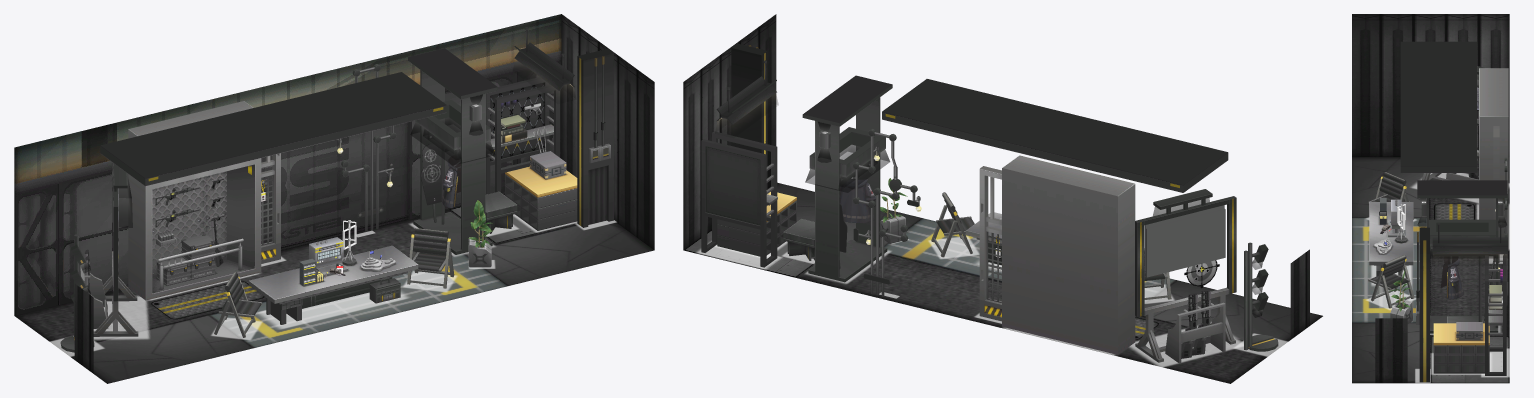
The model's file is BSsafehouse.glb.
The picture shows the model from 3 angles, left to right: view 1: azimuth 30°, elevation 25°; view 2: azimuth 150°, elevation 25°; view 3: azimuth 270°, elevation 25°; orthographic projection. The views are drawn at different scales.
Parts seen in each view (by area): view 1: ROOM_room, ROOM_floor, furni_BSsafehouse_cabinet_01, furni_BSsafehouse_ceilingLamp_01, furni_BSsafehouse_wardrobe_01, furni_BSsafehouse_workbench_01, furni_BSsafehouse_table_01, furni_BSsafehouse_column_01, furni_BSsafehouse_whiteboard_01, furni_BSsafehouse_chair_03, furni_BSsafehouse_carpet_01, furni_BSsafehouse_pipeline_01 (+15 smaller); view 2: furni_BSsafehouse_cabinet_01, ROOM_floor, furni_BSsafehouse_ceilingLamp_01, furni_BSsafehouse_wardrobe_01, furni_BSsafehouse_whiteboard_01, furni_BSsafehouse_workbench_01, ROOM_room, furni_BSsafehouse_column_01, furni_BSsafehouse_pipeline_01, furni_BSsafehouse_floorlamp_01, furni_BSsafehouse_carpet_02, ROOM_LDoor (+10 smaller); view 3: ROOM_floor, furni_BSsafehouse_ceilingLamp_01, ROOM_room, furni_BSsafehouse_wardrobe_01, furni_BSsafehouse_workbench_01, furni_BSsafehouse_cabinet_01, furni_BSsafehouse_table_01, ROOM_RDoor, furni_BSsafehouse_column_01, ROOM_LDoor, furni_BSsafehouse_ceilingLamp_02, furni_BSsafehouse_carpet_02 (+17 smaller).
Part boxes in pixels (x1,y1,x2,y2): ROOM_room: (14, 14, 654, 315); ROOM_floor: (15, 210, 654, 383); furni_BSsafehouse_cabinet_01: (128, 101, 280, 300); furni_BSsafehouse_ceilingLamp_01: (100, 72, 446, 186); furni_BSsafehouse_wardrobe_01: (408, 48, 497, 254); furni_BSsafehouse_workbench_01: (485, 77, 577, 230); furni_BSsafehouse_table_01: (248, 220, 418, 324); furni_BSsafehouse_column_01: (577, 48, 613, 227); furni_BSsafehouse_whiteboard_01: (80, 162, 138, 336); furni_BSsafehouse_chair_03: (407, 228, 454, 288); furni_BSsafehouse_carpet_01: (151, 281, 264, 319); furni_BSsafehouse_pipeline_01: (337, 64, 396, 231); furni_BSsafehouse_cabinet_01: (979, 155, 1135, 354); ROOM_floor: (683, 182, 1322, 383); furni_BSsafehouse_ceilingLamp_01: (882, 79, 1228, 192); furni_BSsafehouse_wardrobe_01: (802, 75, 892, 282); furni_BSsafehouse_whiteboard_01: (1135, 189, 1236, 363); furni_BSsafehouse_workbench_01: (701, 131, 796, 267); ROOM_room: (683, 14, 776, 249); furni_BSsafehouse_column_01: (731, 43, 767, 189); furni_BSsafehouse_pipeline_01: (852, 129, 921, 296); furni_BSsafehouse_floorlamp_01: (1244, 242, 1278, 351); furni_BSsafehouse_carpet_02: (684, 229, 814, 277); ROOM_LDoor: (1290, 249, 1309, 339); ROOM_floor: (1352, 157, 1509, 383); furni_BSsafehouse_ceilingLamp_01: (1400, 41, 1476, 172); ROOM_room: (1352, 14, 1509, 156); furni_BSsafehouse_wardrobe_01: (1417, 180, 1507, 333); furni_BSsafehouse_workbench_01: (1433, 255, 1506, 375); furni_BSsafehouse_cabinet_01: (1479, 68, 1508, 262); furni_BSsafehouse_table_01: (1369, 198, 1413, 276); ROOM_RDoor: (1375, 318, 1407, 383); furni_BSsafehouse_column_01: (1416, 227, 1429, 382); ROOM_LDoor: (1375, 92, 1400, 156); furni_BSsafehouse_ceilingLamp_02: (1432, 223, 1507, 254); furni_BSsafehouse_carpet_02: (1431, 336, 1509, 382).
Size of the model in its own units: 7.57 by 2.2 by 2.34.
Materials: 8 (8 with a texture image).
